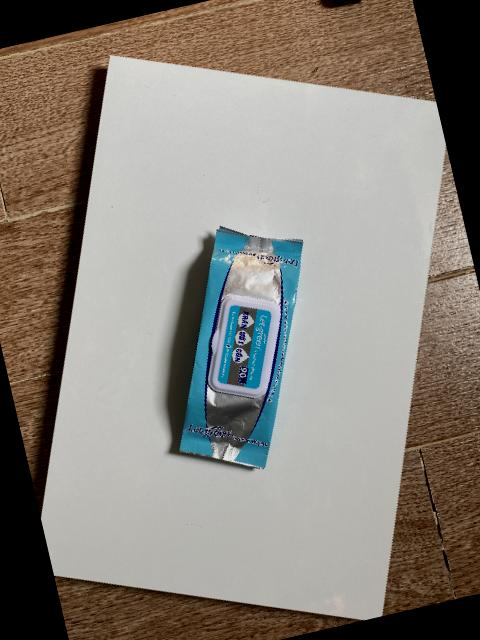Let-green_alcohol_wipes: (178, 224, 301, 467)
